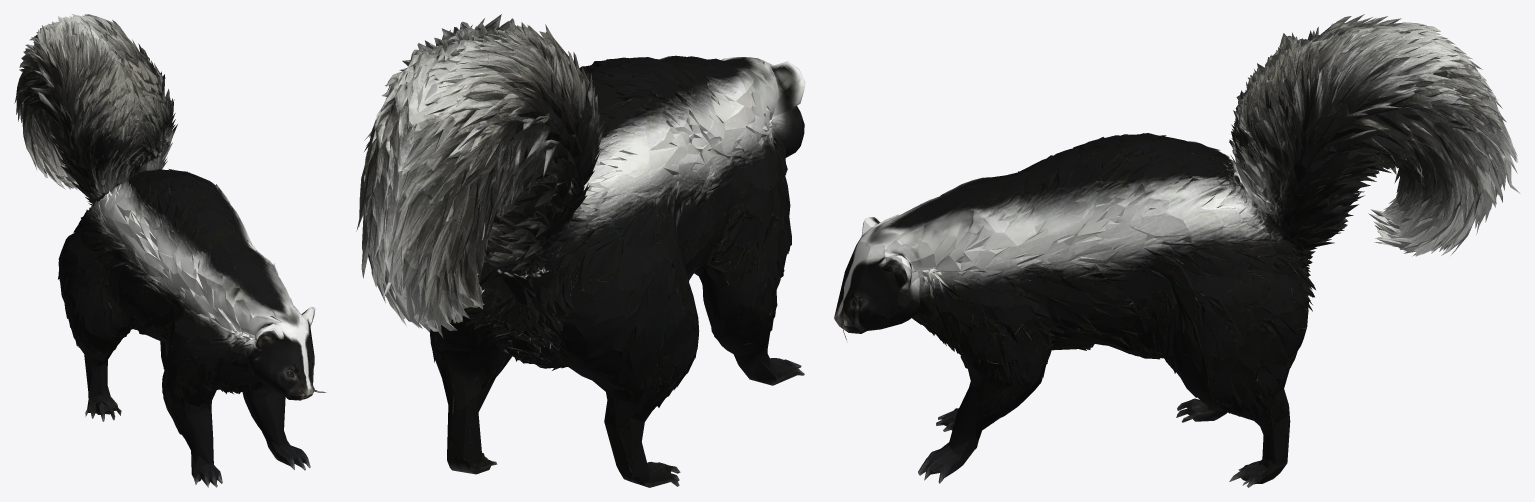
Rendered from striped-skunk.glb.
3 views of the same model, side by side, from view 1: azimuth 30°, elevation 25°; view 2: azimuth 150°, elevation 25°; view 3: azimuth 270°, elevation 25° (orthographic). The views are drawn at different scales.
Bounding box in the file's own units: 0.6602 × 1.29 × 1.88.
Materials: 1 (1 with a texture image).
